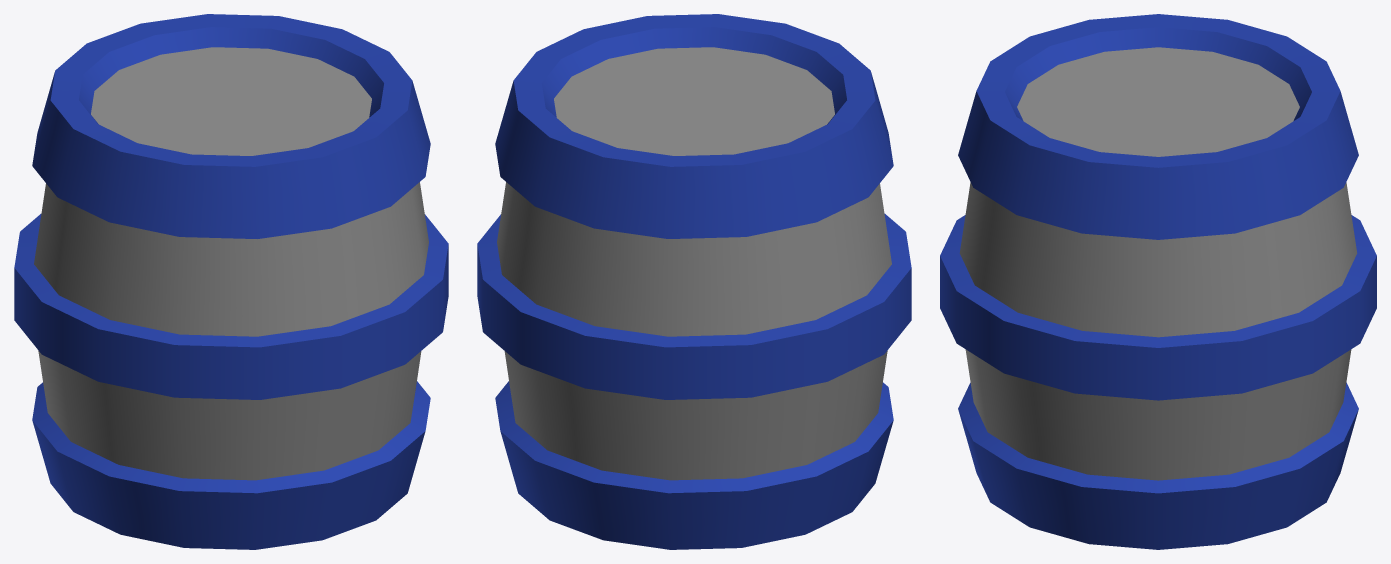
Rendered from Barrel_01_mm.fbx.
The picture shows the model from 3 angles, left to right: view 1: azimuth 30°, elevation 25°; view 2: azimuth 150°, elevation 25°; view 3: azimuth 270°, elevation 25°; orthographic projection.
Parts seen in each view (by area): view 1: Barrel_01; view 2: Barrel_01; view 3: Barrel_01.
Boxes of the visible parts, x1,y1,x2,y2 form: Barrel_01: [14, 14, 448, 549]; Barrel_01: [477, 14, 911, 549]; Barrel_01: [940, 14, 1376, 549].
Size of the model in its own units: 87.27 by 84.21 by 87.27.
